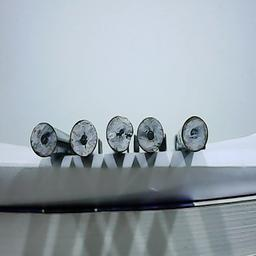pen: (105, 114, 135, 153), (69, 119, 100, 156), (181, 114, 210, 151), (137, 114, 165, 152), (30, 121, 57, 157)
